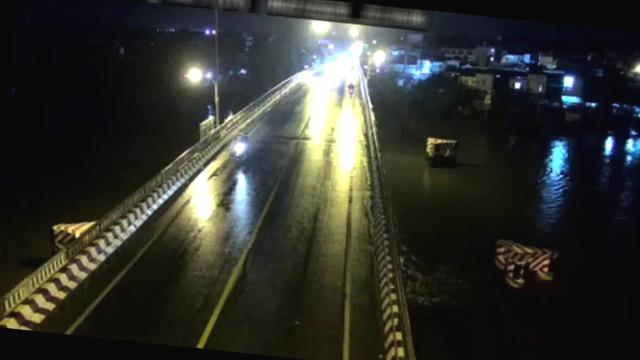Bike: (229, 134, 249, 162), (346, 82, 355, 97)
